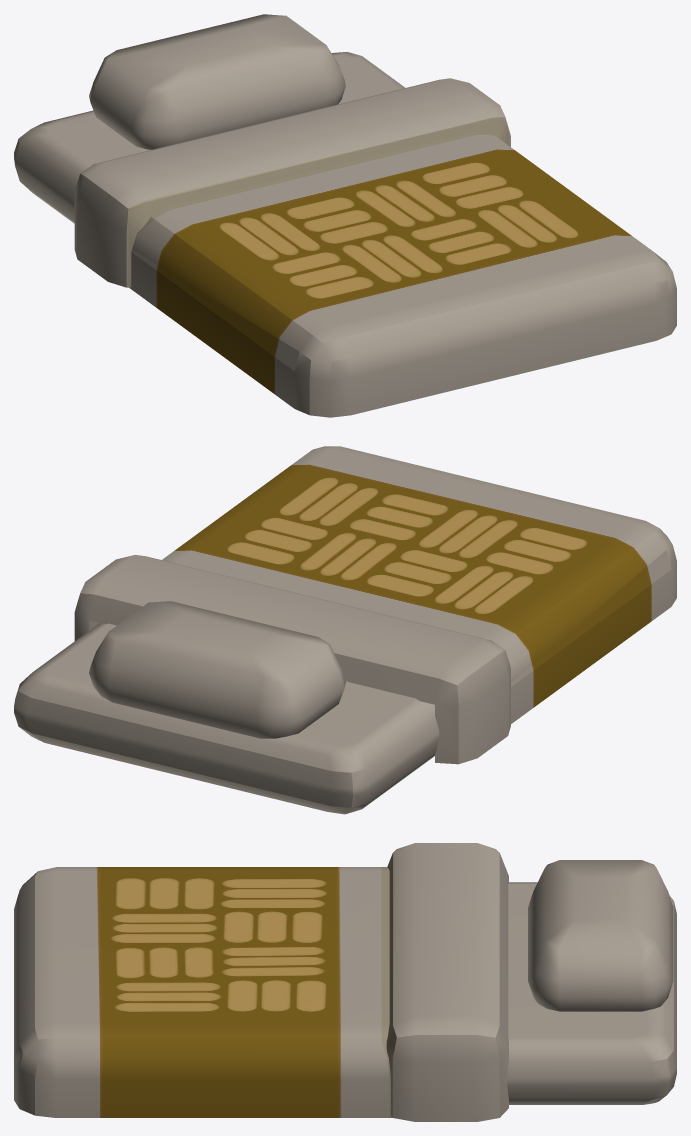
The model's file is Cama3Cama.obj.
The picture shows the model from 3 angles, top to bottom: view 1: azimuth 30°, elevation 25°; view 2: azimuth 150°, elevation 25°; view 3: azimuth 270°, elevation 25°; orthographic projection. The views are drawn at different scales.
Visible parts, largest first — view 1: Cama_pCube30; view 2: Cama_pCube30; view 3: Cama_pCube30.
Boxes of the visible parts, <box> form: Cama_pCube30: <box>14,14,676,417</box>; Cama_pCube30: <box>14,446,676,814</box>; Cama_pCube30: <box>14,843,676,1121</box>.
Size of the model in its own units: 1.07 by 0.32 by 1.5.
1 material, 1 textured.
